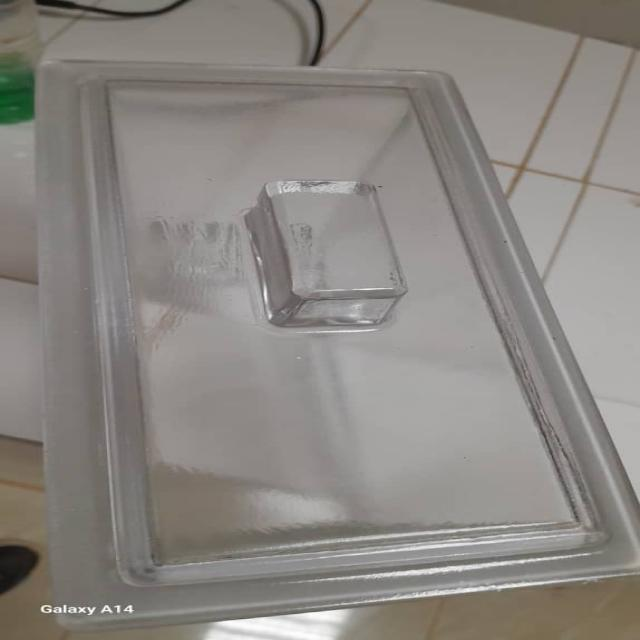TLC Tank: (0, 50, 622, 626)
